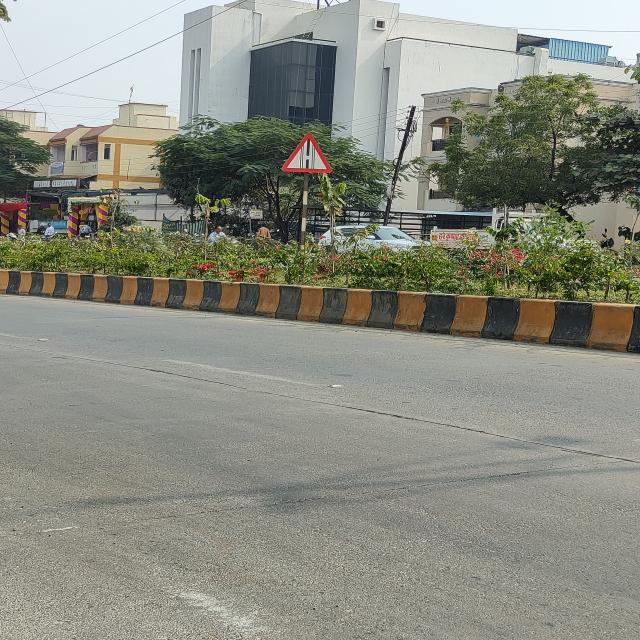ferry: (280, 131, 332, 173)
